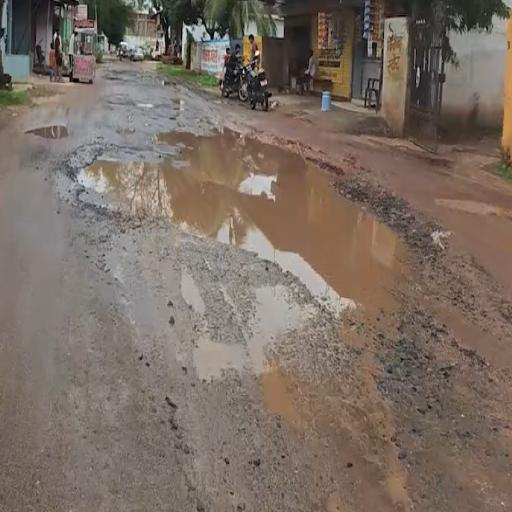pothole: (66, 80, 492, 447)
